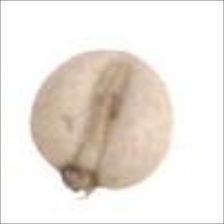L5: (74, 60, 134, 171), (58, 165, 106, 200), (95, 49, 157, 72)
L6: (29, 49, 177, 199)
